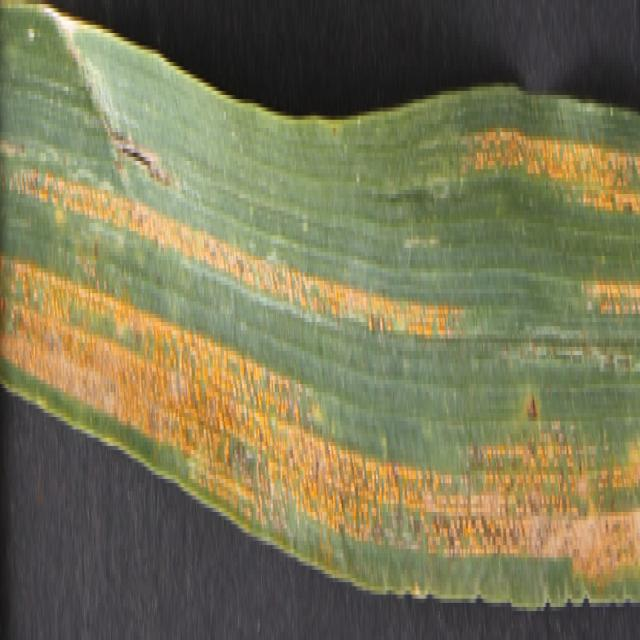leaf rust: (0, 123, 640, 627)
